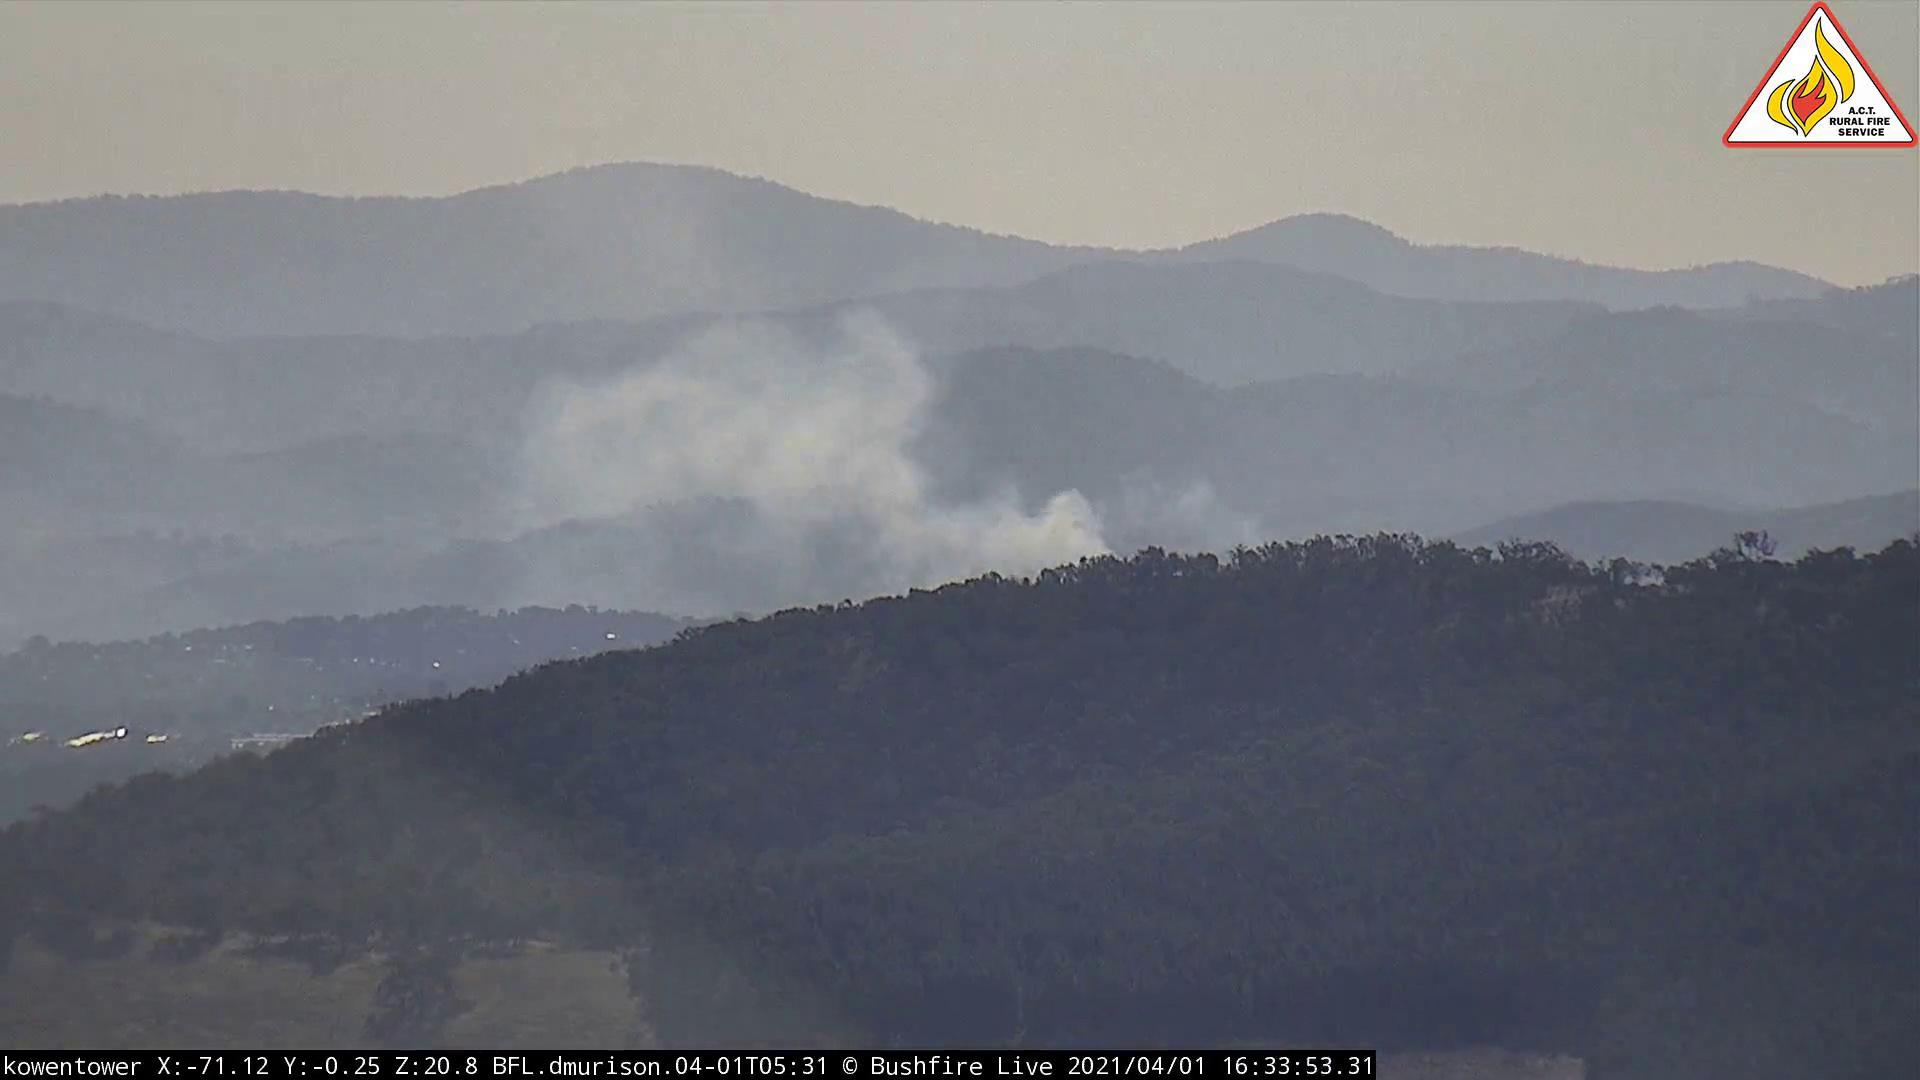Smoke: (512, 290, 1254, 653)
